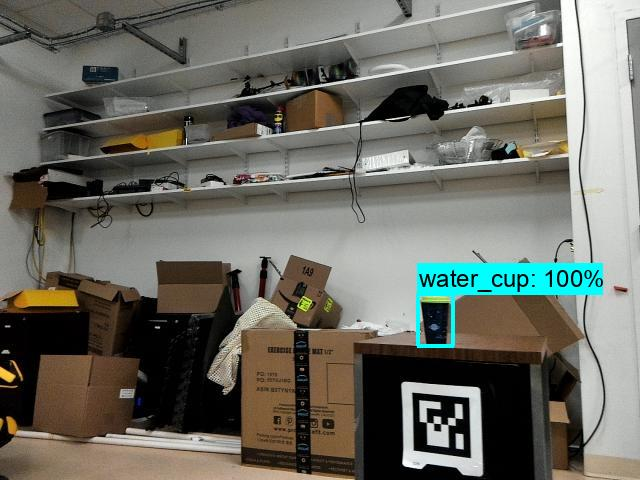water_cup: (418, 293, 453, 347)
